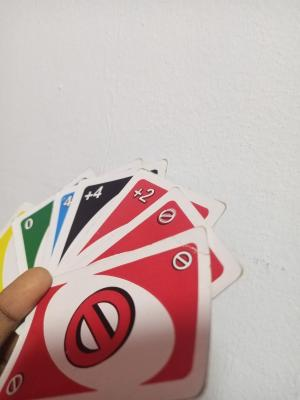-2: (130, 184, 158, 209)
num_0: (22, 212, 35, 237)
num_4: (56, 194, 77, 212)
skip: (55, 284, 139, 372), (168, 245, 200, 276), (1, 366, 30, 400), (155, 200, 179, 228)
wild-4: (78, 183, 110, 204)
